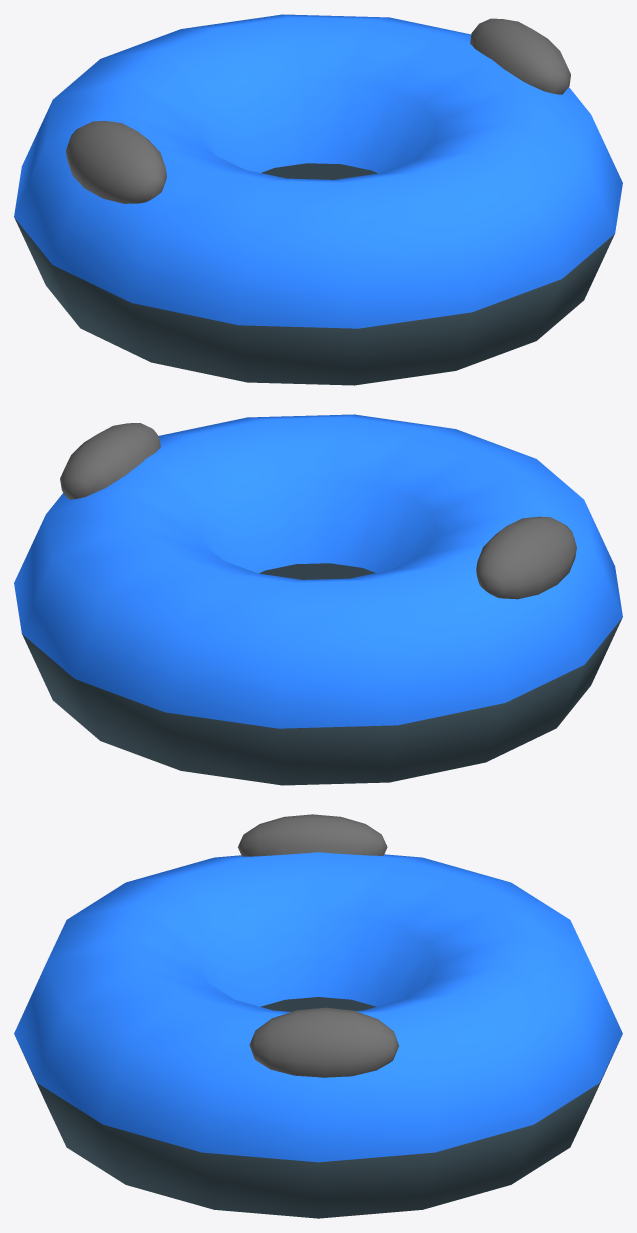
Rendered from tubing_002.glb.
The picture shows the model from 3 angles, top to bottom: view 1: azimuth 30°, elevation 25°; view 2: azimuth 150°, elevation 25°; view 3: azimuth 270°, elevation 25°; orthographic projection.
Visible parts, largest first — view 1: tubing_002; view 2: tubing_002; view 3: tubing_002.
Boxes of the visible parts, left/top/right/bottom form: tubing_002: left=14, top=14, right=622, bottom=385; tubing_002: left=14, top=414, right=622, bottom=785; tubing_002: left=14, top=814, right=622, bottom=1218.
Bounding box in the file's own units: 3.04 × 1.2 × 3.04.
1 material, 1 textured.
